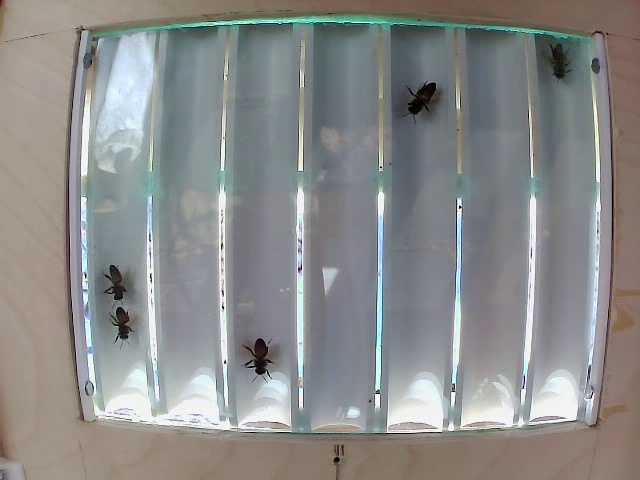bee: (397, 66, 455, 129), (228, 330, 286, 369), (533, 29, 578, 79), (106, 306, 137, 359), (95, 266, 130, 308)
